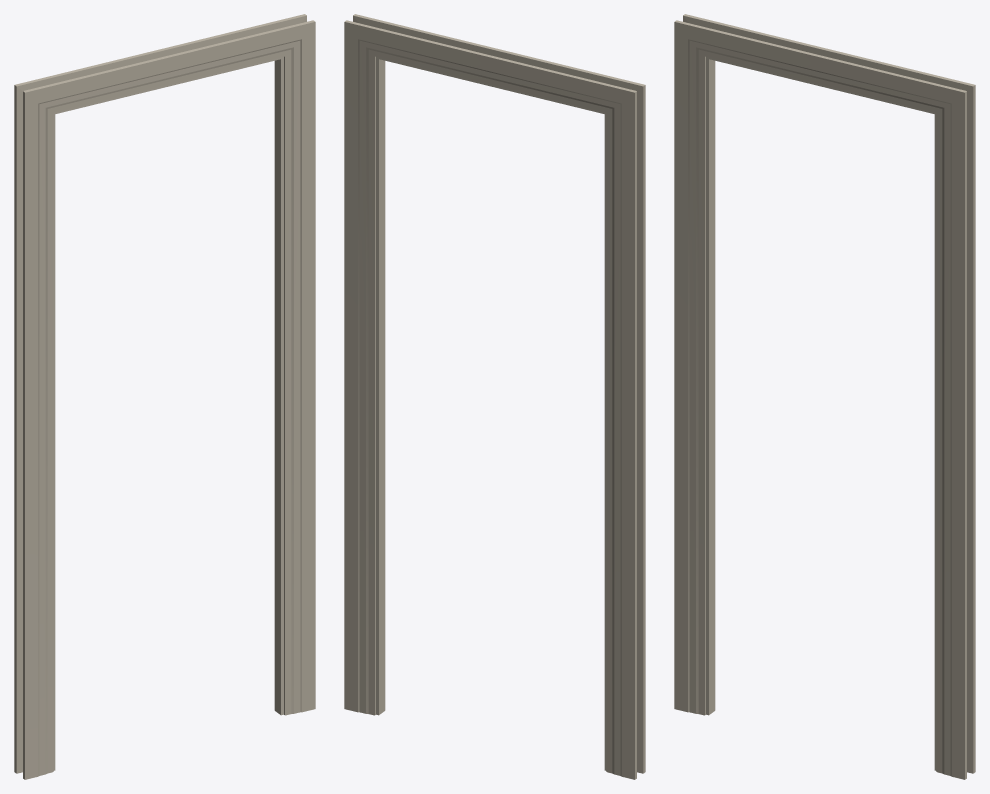
File: 20_VIOLET_Frmae.glb
3 views of the same model, side by side, from view 1: azimuth 30°, elevation 25°; view 2: azimuth 150°, elevation 25°; view 3: azimuth 330°, elevation 25° (orthographic).
Parts seen in each view (by area): view 1: 20_VIOLET_Frmae; view 2: 20_VIOLET_Frmae; view 3: 20_VIOLET_Frmae.
Part boxes in pixels (left/top/right/bottom): 20_VIOLET_Frmae: left=14, top=14, right=315, bottom=779; 20_VIOLET_Frmae: left=344, top=14, right=645, bottom=779; 20_VIOLET_Frmae: left=674, top=14, right=975, bottom=779.
Size of the model in its own units: 1.04 by 2.34 by 0.0659.
